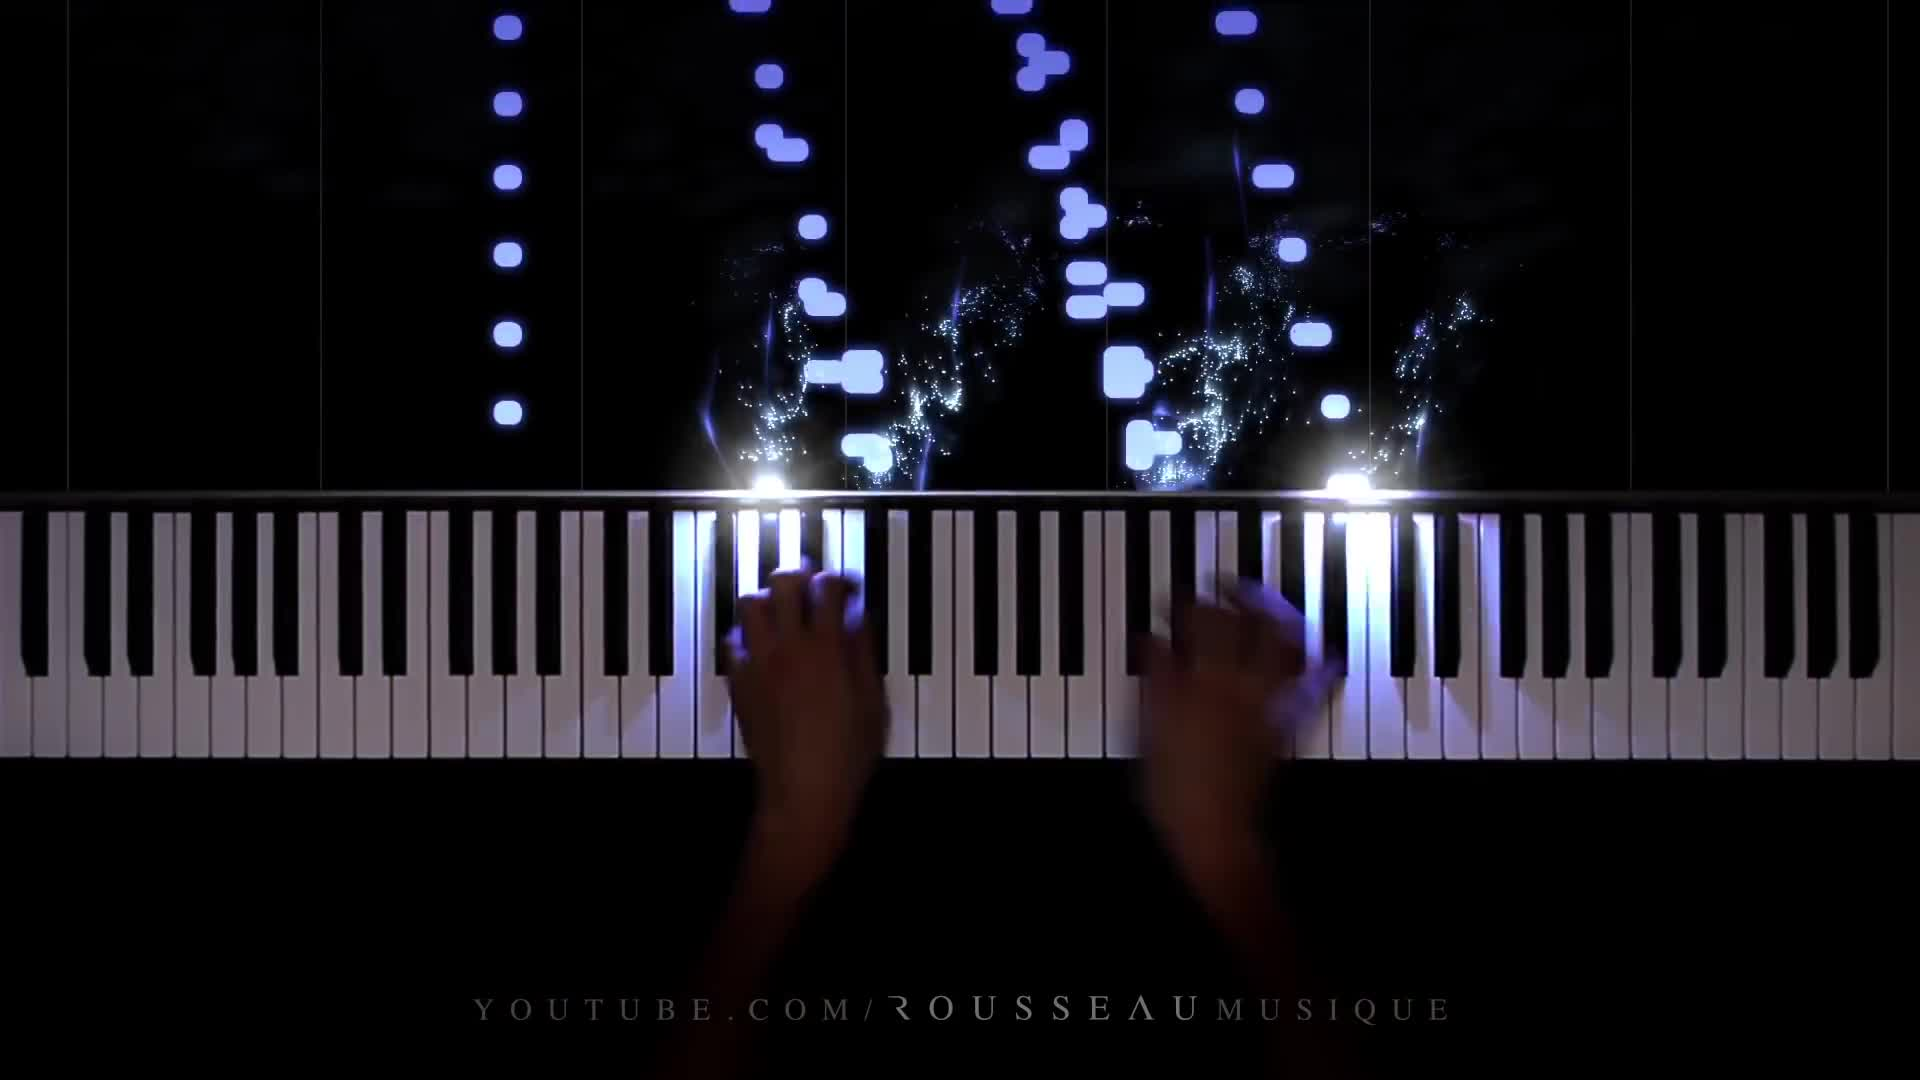left: (721, 553, 890, 803)
right: (1127, 568, 1344, 832)
